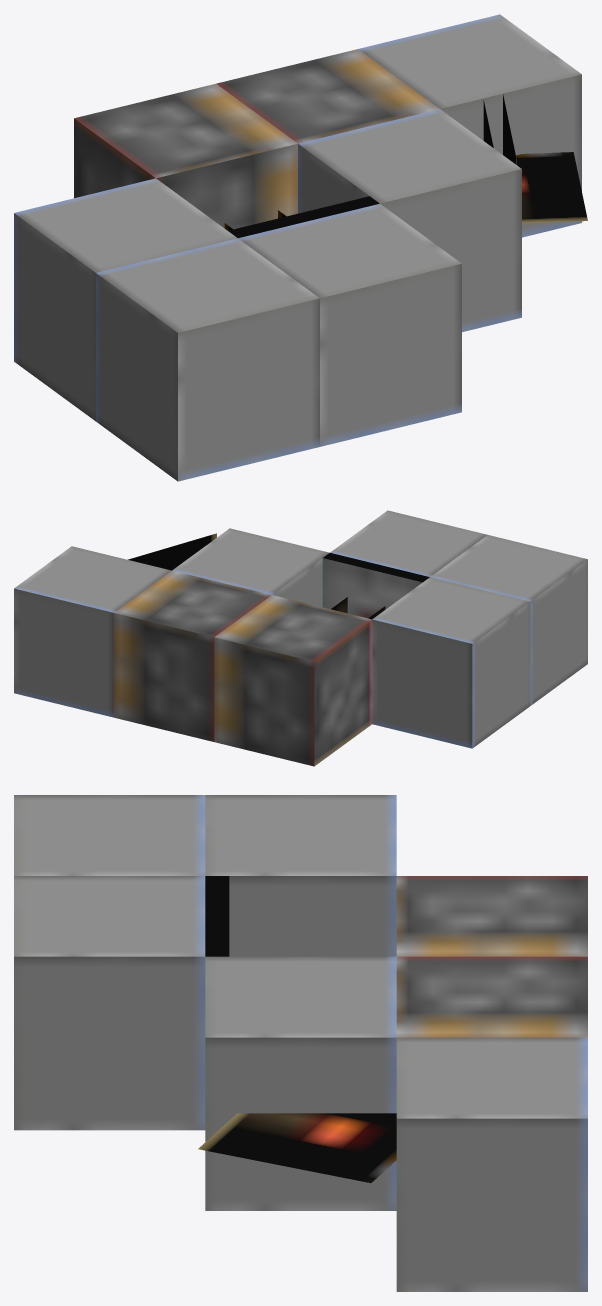
The model's file is double_extender_2.gltf.
3 views of the same model, one above another, from view 1: azimuth 30°, elevation 25°; view 2: azimuth 150°, elevation 25°; view 3: azimuth 270°, elevation 25° (orthographic). The views are drawn at different scales.
Size of the model in its own units: 0.1016 by 0.0254 by 0.0762.
1 material, 1 textured.
